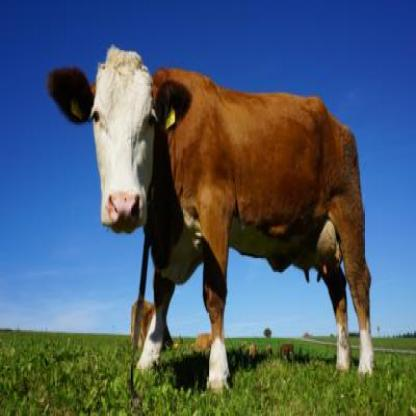lower: (119, 227, 128, 230)
mouth: (100, 186, 147, 233)
upper: (119, 202, 128, 210)
